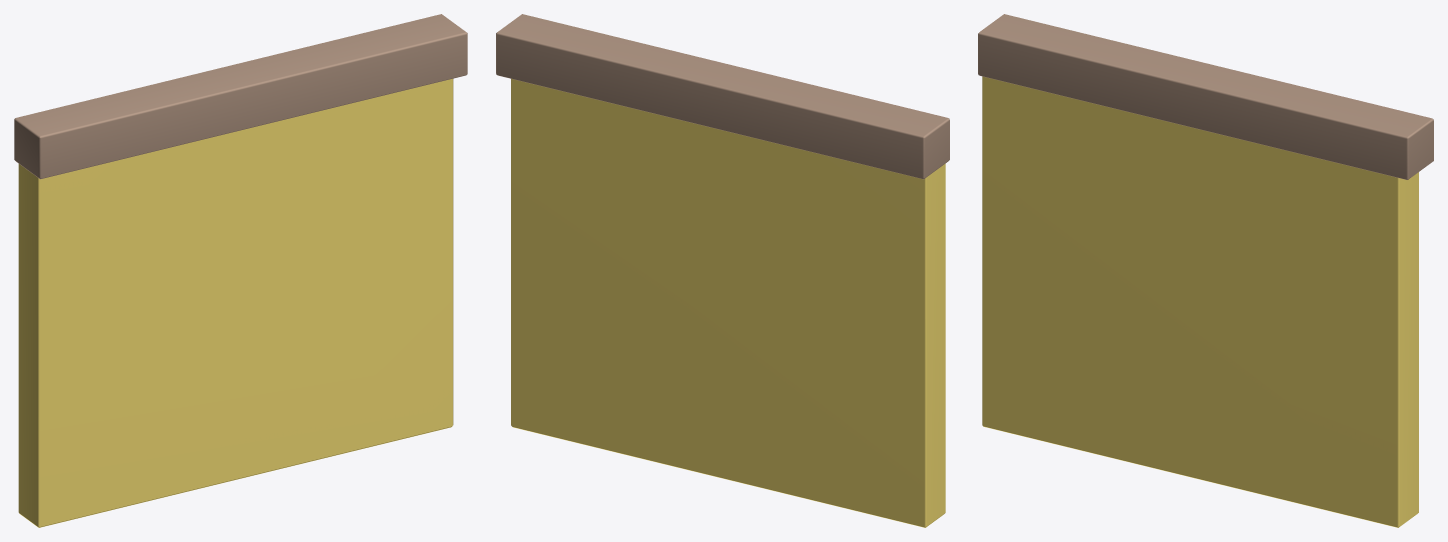
File: Wall_37.glb
The picture shows the model from 3 angles, left to right: view 1: azimuth 30°, elevation 25°; view 2: azimuth 150°, elevation 25°; view 3: azimuth 330°, elevation 25°; orthographic projection.
Visible parts, largest first — view 1: Wall_37; view 2: Wall_37; view 3: Wall_37.
Boxes of the visible parts, box(x1,y1,x2,y2) form: Wall_37: box(14, 14, 467, 527); Wall_37: box(496, 14, 949, 527); Wall_37: box(978, 14, 1433, 527).
Size of the model in its own units: 4.75 by 4.17 by 0.5182.
1 material, 1 textured.
